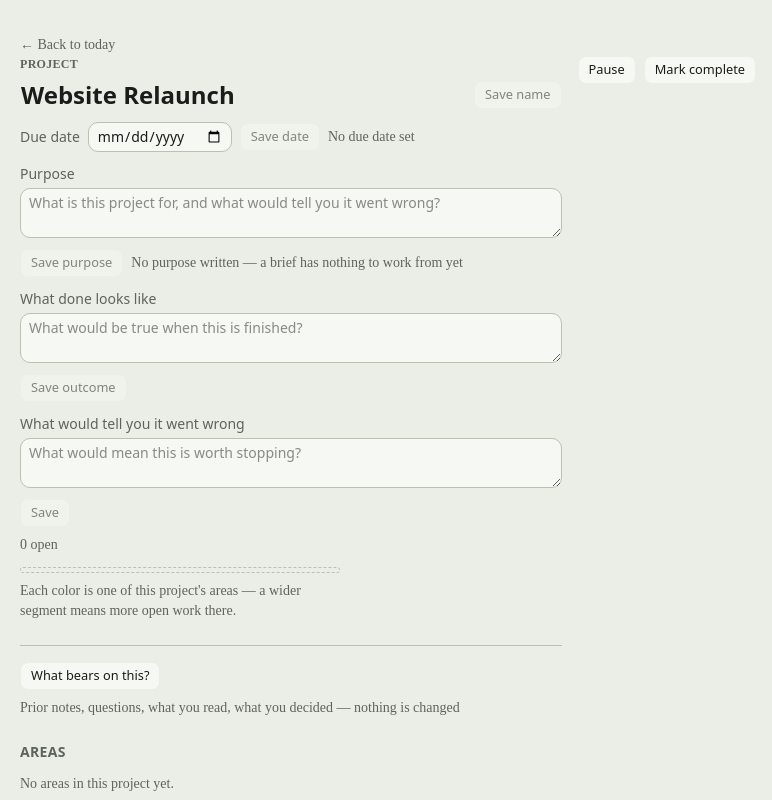
ProjectRoute › offers the sources this project's material came out of
This screenshot has width=772, height=800.
Expected: the field showing "Website Relaunch" is shown, [16, 76, 466, 114]
Click the button "What bears on this?". click: [90, 676]
box: [20, 662, 160, 690]
(page scrolled)
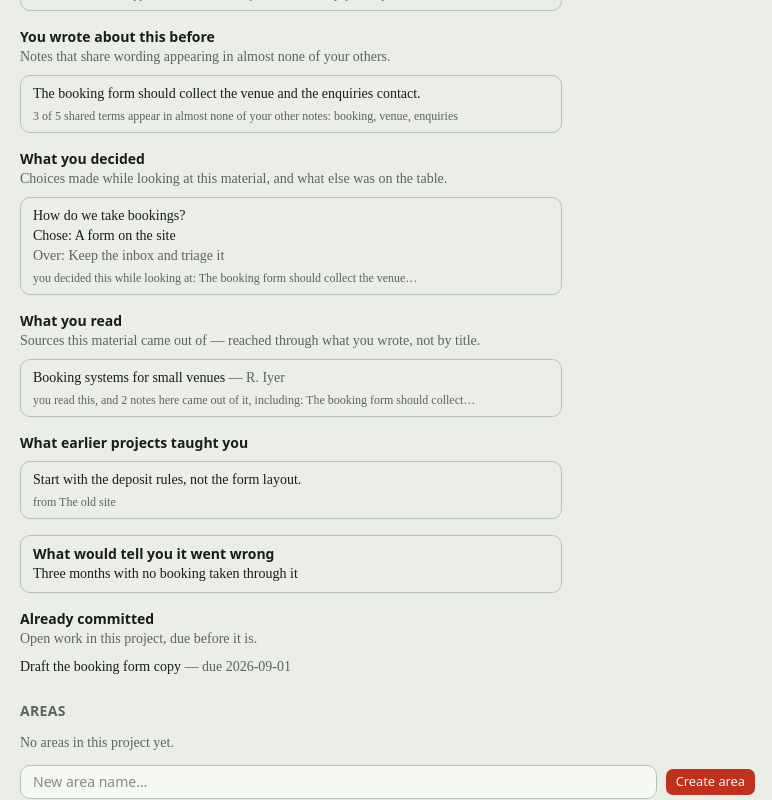
Expected: the text "Booking systems for small venues — R. Iyer" is shown, [33, 370, 285, 385]
Expected: the text "2 notes here came out of it" is shown, [33, 393, 475, 407]
